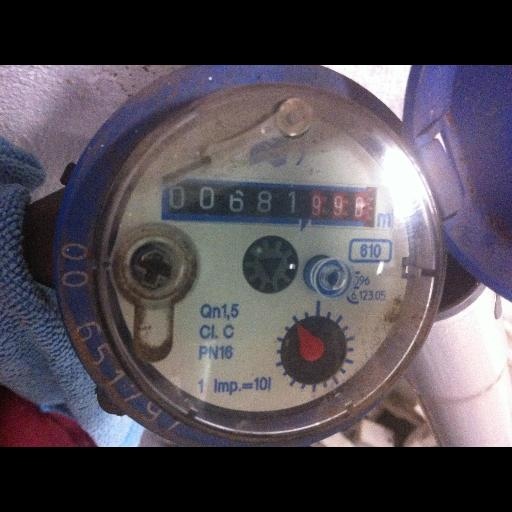0: (167, 181, 188, 214), (197, 183, 218, 214), (352, 192, 368, 223)
1: (284, 188, 300, 218)
6: (226, 184, 248, 216)
8: (254, 187, 276, 218)
9: (309, 190, 326, 221), (331, 190, 348, 221)
border_water_meter_number: (161, 176, 377, 228)
